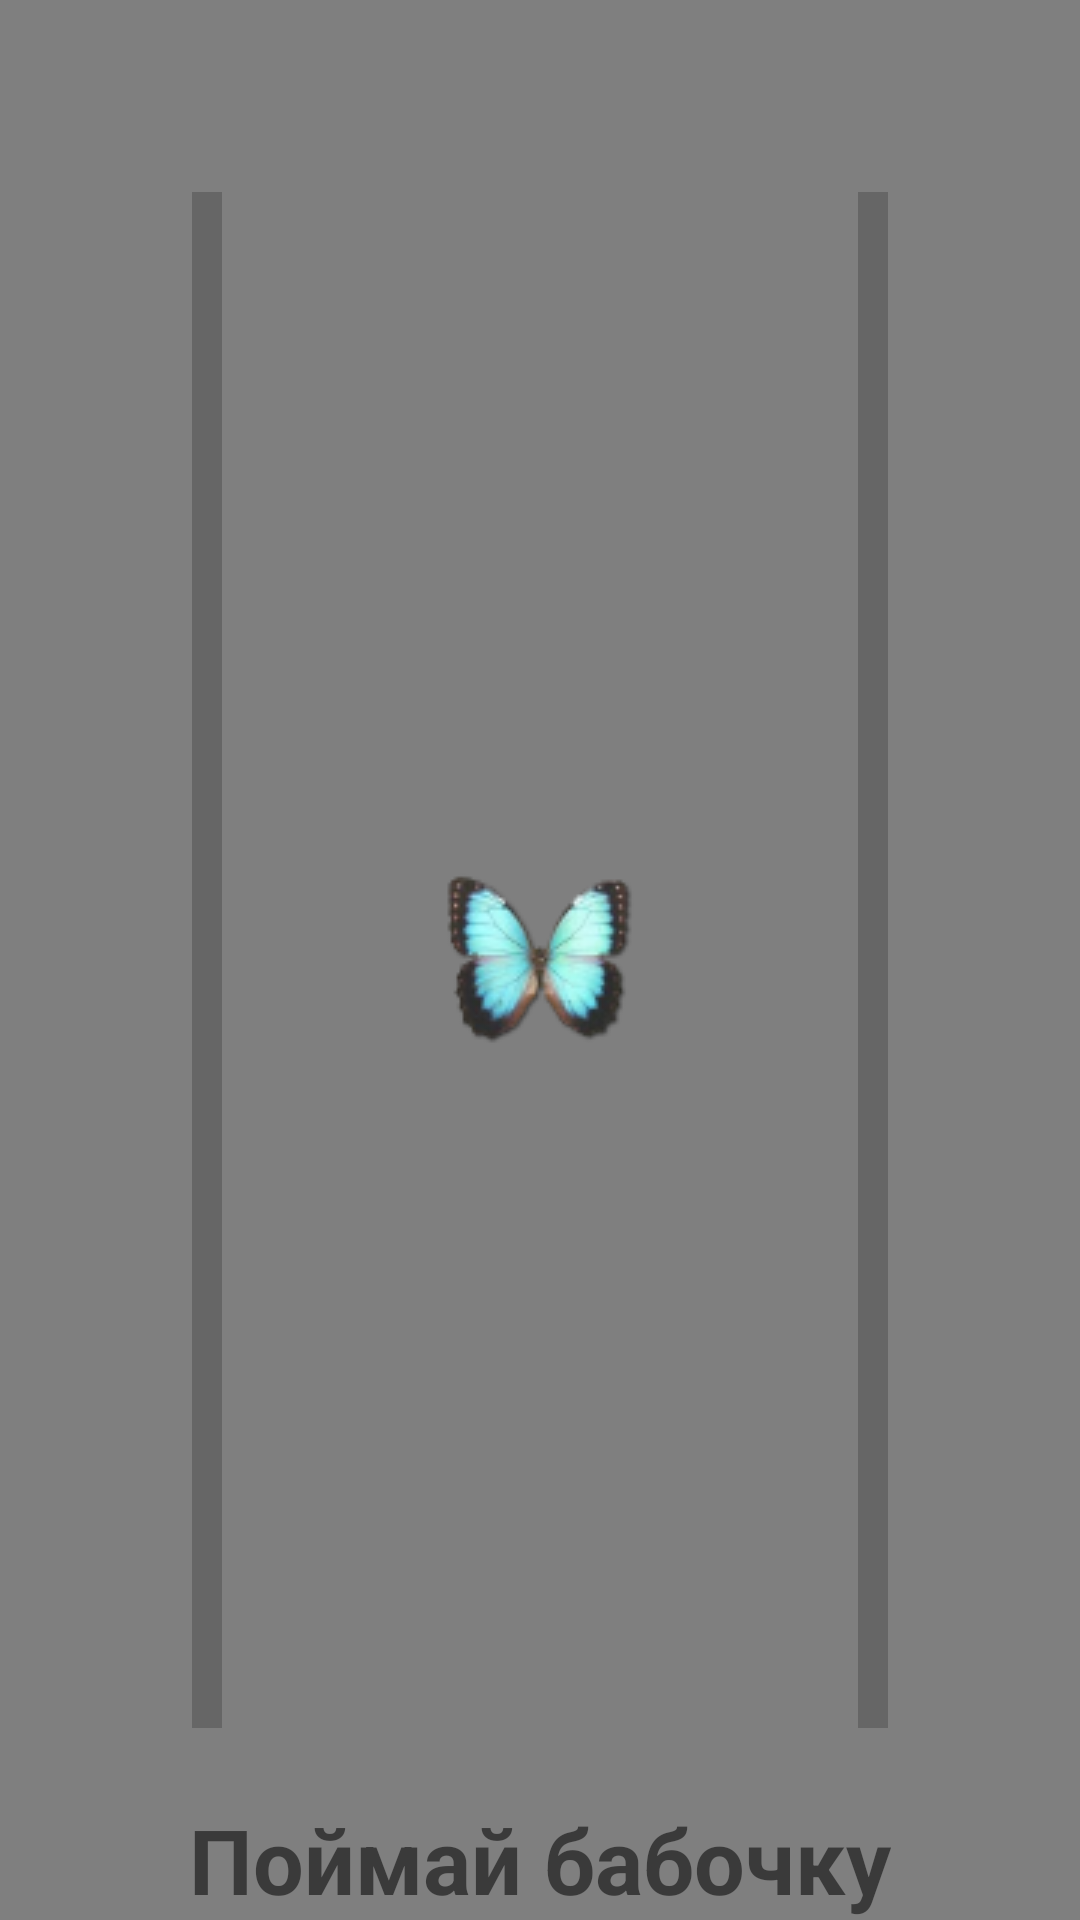

Icons on this 1080 × 1920 Android screen, each with its box as (x1, y1, x2, y2):
butterfly: (448, 877, 630, 1041)
